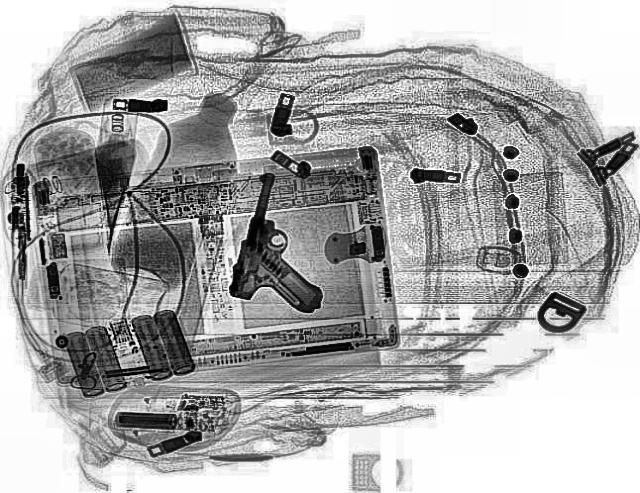Gun: (220, 172, 360, 312)
